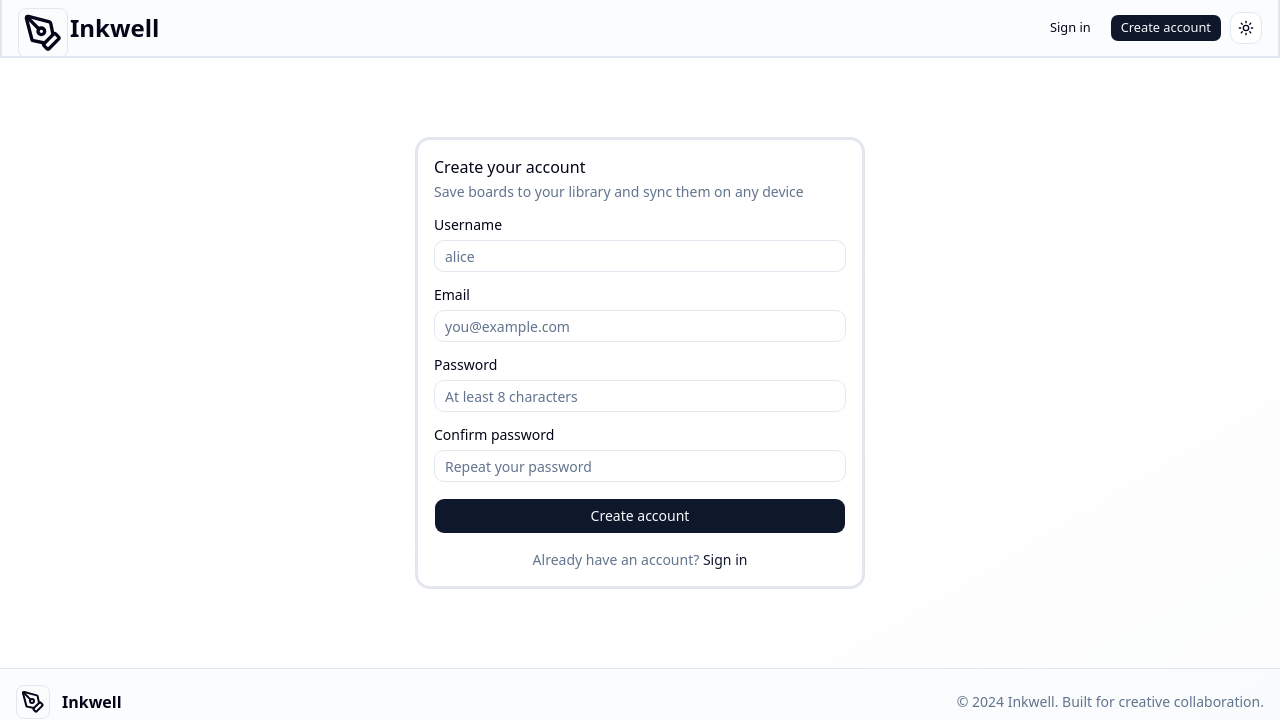
it: Register Page › navigates to the login page
The image size is (1280, 720).
Step 1. Click the 1st link "Sign in" → [1071, 27], box [1050,18,1091,36]
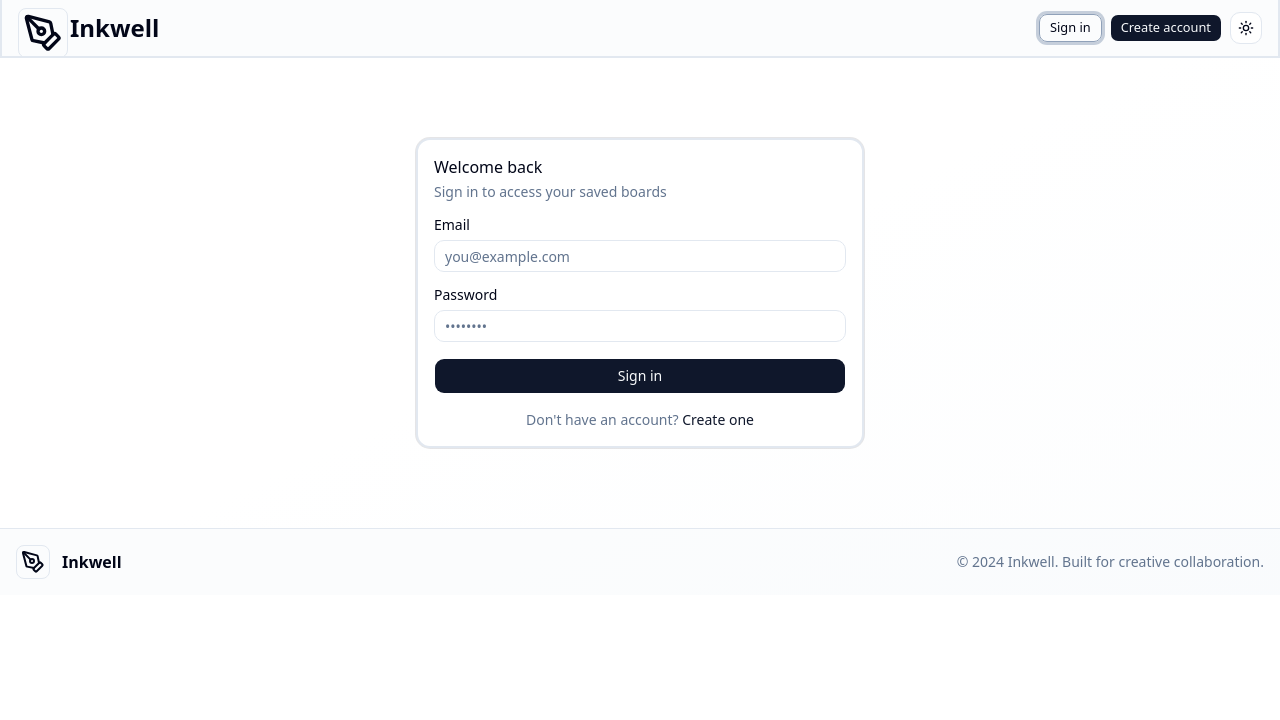
Expected: the text "Welcome back" is shown, [434,156,542,178]
